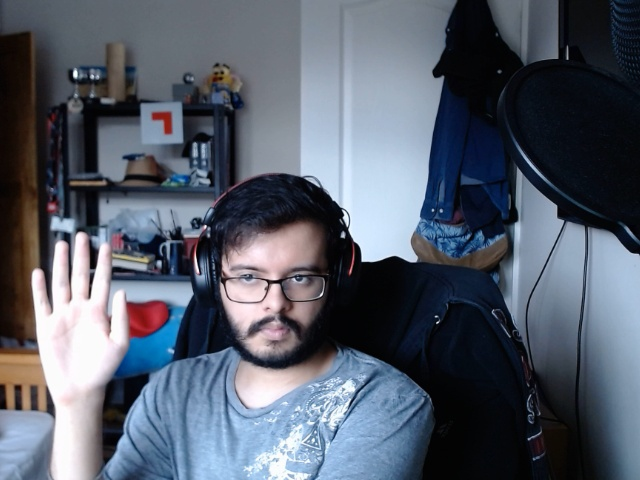Hello: (19, 224, 138, 405)
